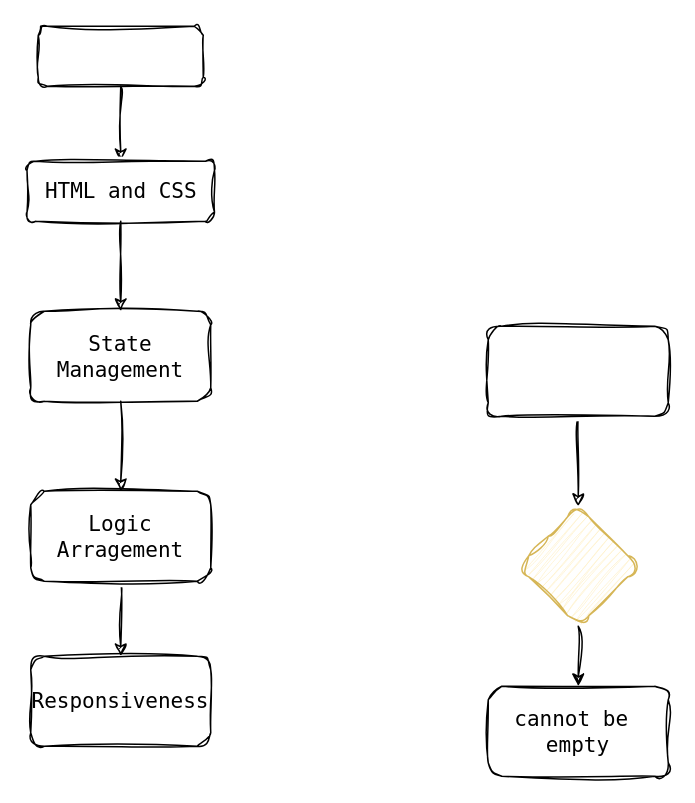
Image size: 695x803. Some labels were removed from this diagram. The centre of each missing label's shape, as x and y in pixels:
"Modal" belongs at (577,370).
"Static Interface" belongs at (120,55).
